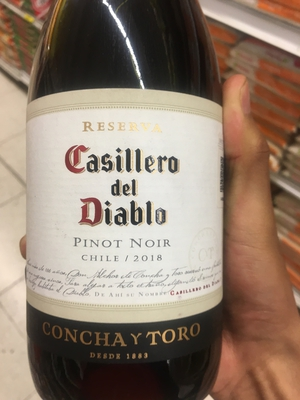casillero del diablo pinot noir: (27, 5, 234, 400)
